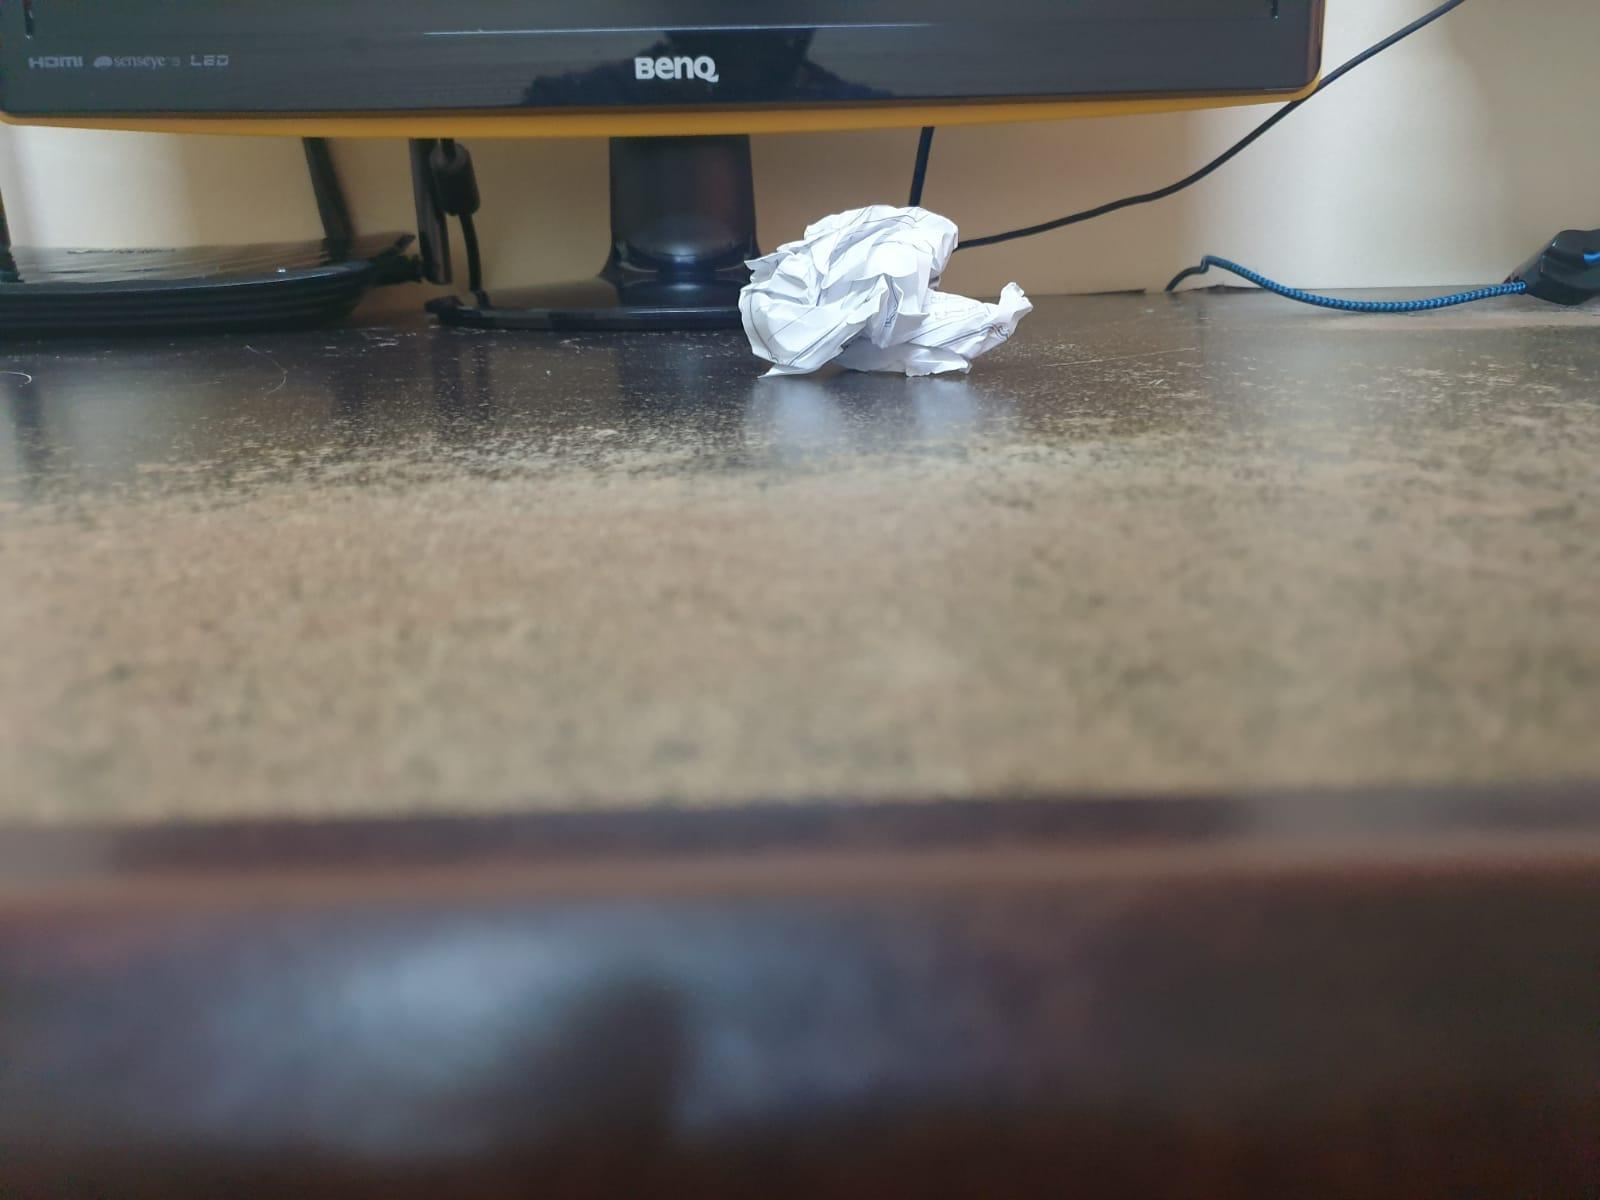Paper: (753, 191, 1030, 406)
